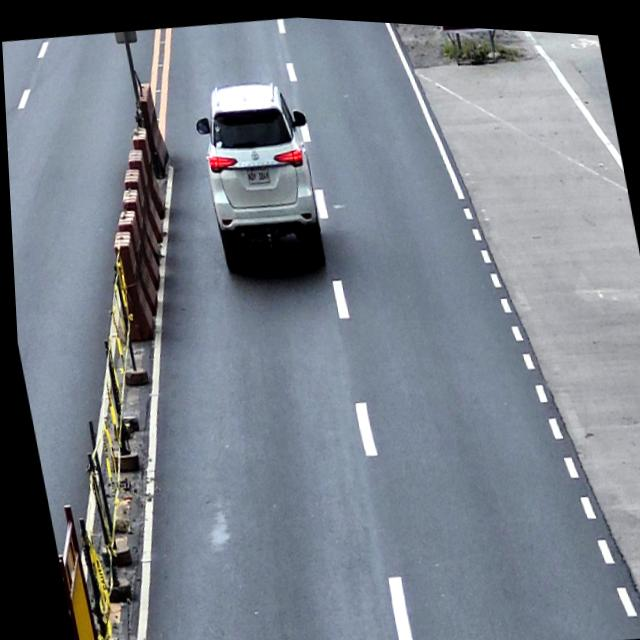Car: (186, 68, 333, 276)
License-Plate: (242, 160, 270, 184)
